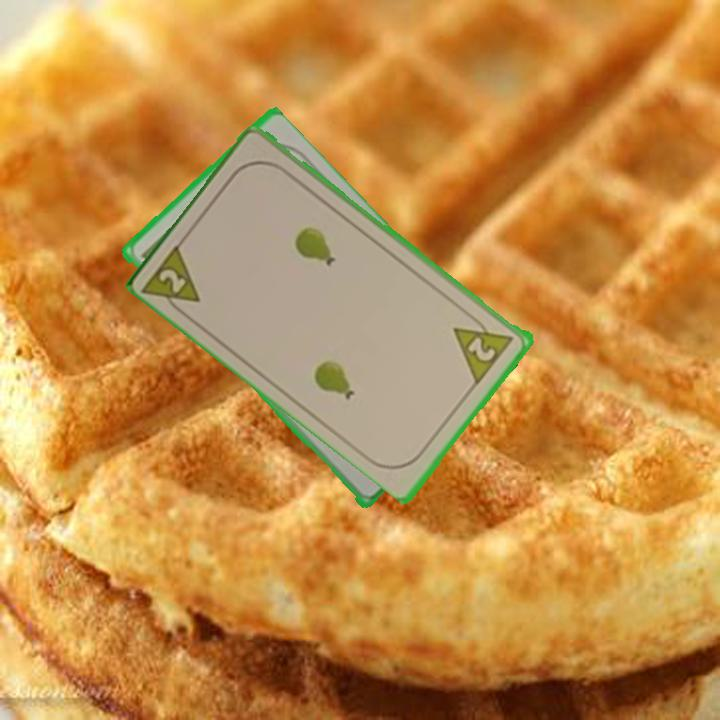2p: (140, 238, 205, 321), (450, 308, 517, 386)
